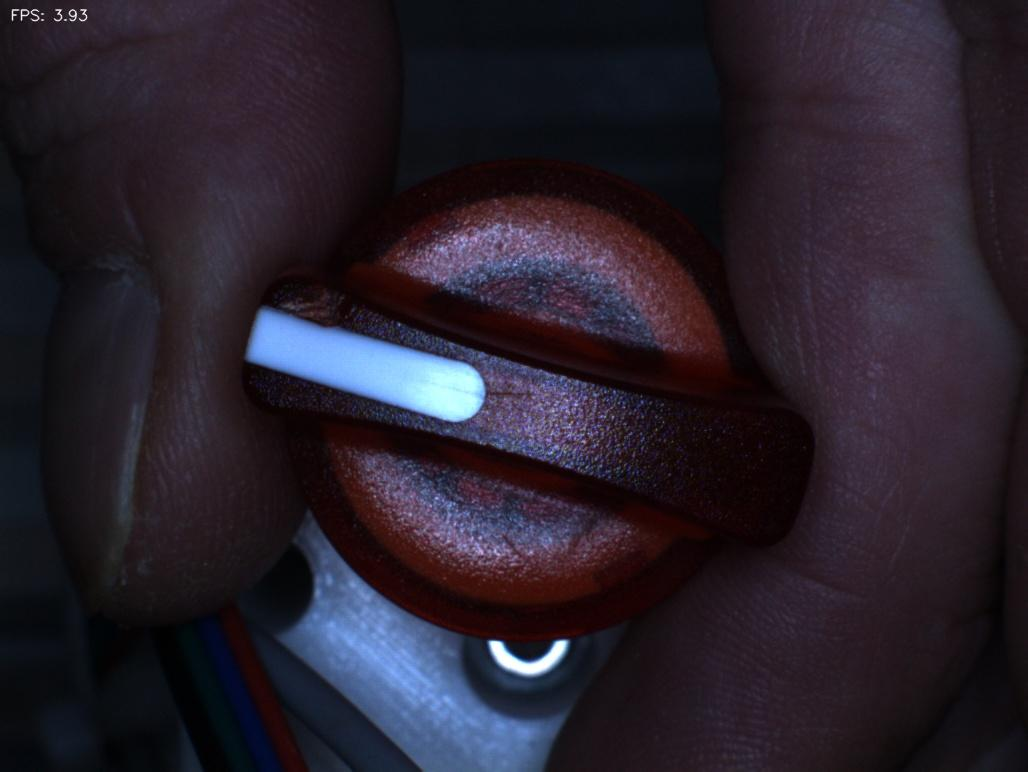Choc: (247, 255, 374, 352)
